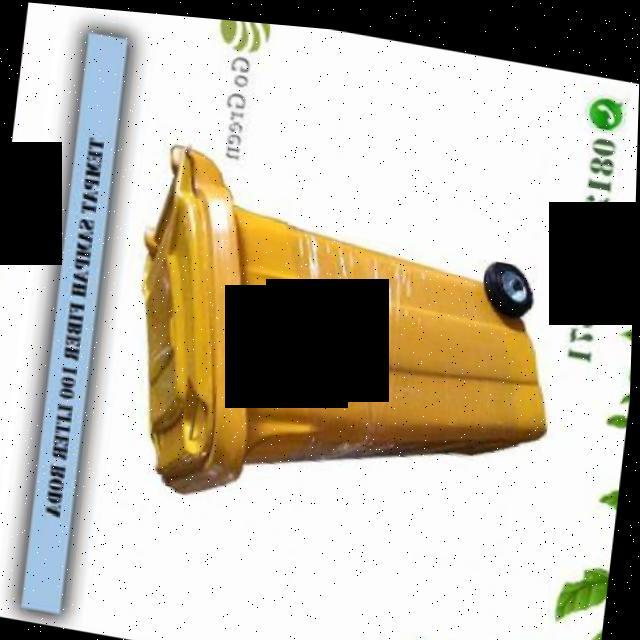bin: (98, 134, 571, 547)
